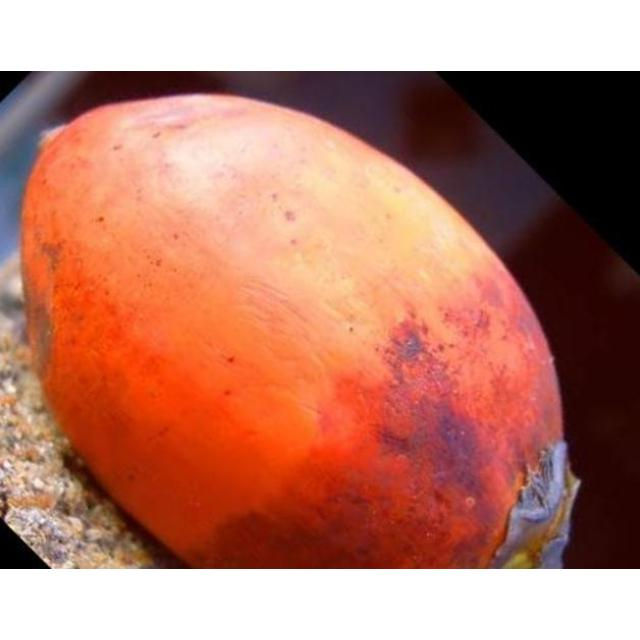good: (18, 93, 581, 568)
